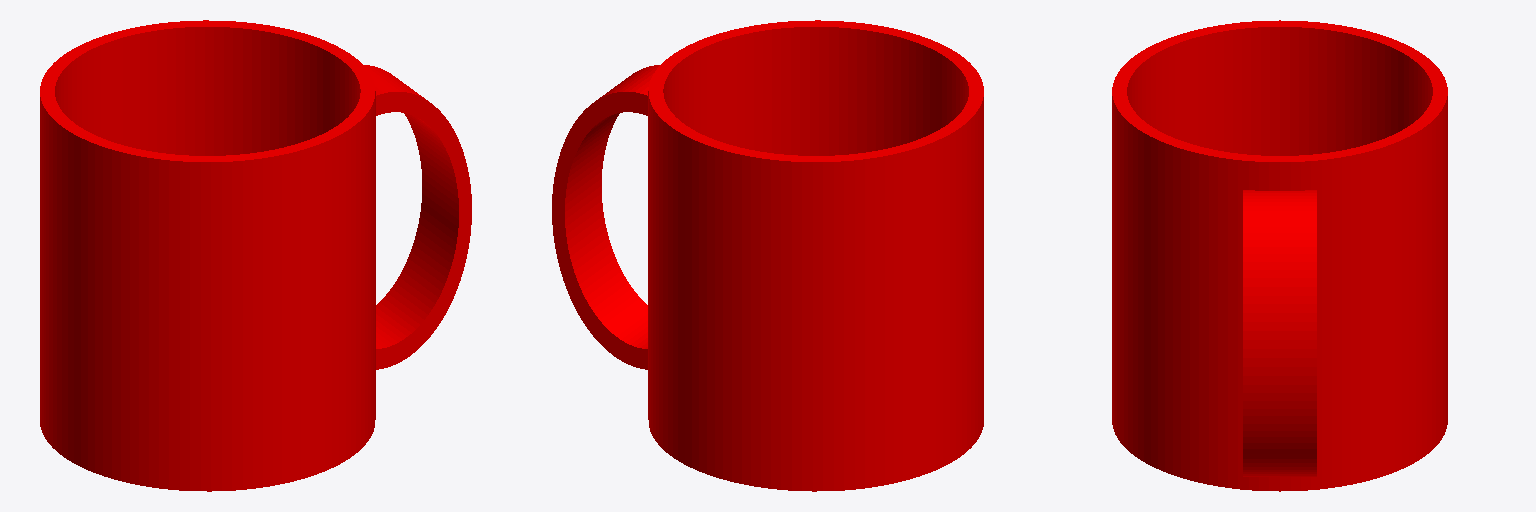
URDF robot description (mug.urdf):
<?xml version="1.0" ?>
<robot name="mug.urdf">
  <link name="baseLink">
    <inertial>
      <origin rpy="0 0 0" xyz="0 0 0"/>
       <mass value=".1"/>
       <inertia ixx="1" ixy="0" ixz="0" iyy="1" iyz="0" izz="1"/>
    </inertial>
    <visual>
      <origin rpy="0 0 0" xyz="0 0 0"/>
      <geometry>
        <mesh filename="7.stl" scale="1 1 1" />
      </geometry>
      <material name="red">
        <color rgba="1 0 0 1"/>
      </material>
    </visual>
    <collision>
      <origin rpy="0 0 0" xyz="0 0 0"/>
      <geometry>
        <mesh filename="7_convex.obj" scale="1 1 1" />
      </geometry>
    </collision>
  </link>
</robot>

--- Render facts (derived) ---
3 views of the same robot in one strip: view 1: azimuth 30°, elevation 25°; view 2: azimuth 150°, elevation 25°; view 3: azimuth 270°, elevation 25° (orthographic).
Model mug.urdf with 1 links and 0 joints (none), rooted at baseLink, posed every joint at zero.
Links seen in each view (by area): view 1: baseLink; view 2: baseLink; view 3: baseLink.
Link boxes in pixels (left/top/right/bottom): baseLink: left=40, top=20, right=471, bottom=491; baseLink: left=552, top=20, right=983, bottom=491; baseLink: left=1112, top=20, right=1447, bottom=491.
Size in the robot's own frame: 0.1512 by 0.1123 by 0.1215 metres.
1 mesh visuals loaded from 1 distinct referenced files (1 binary STL).